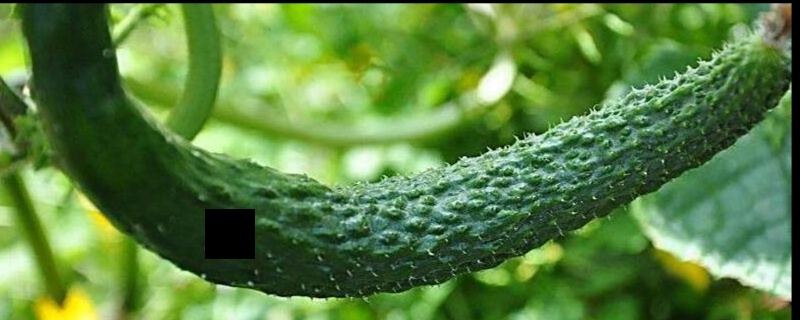cucumber: (40, 13, 783, 295)
